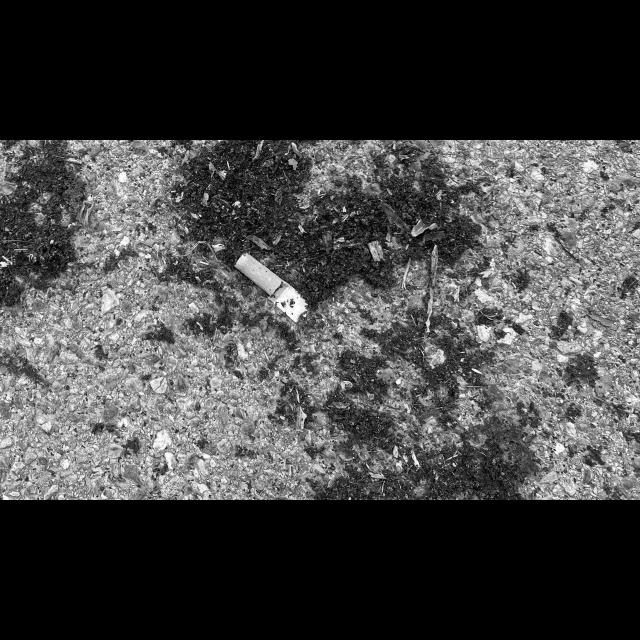cigarette: (234, 252, 324, 330)
